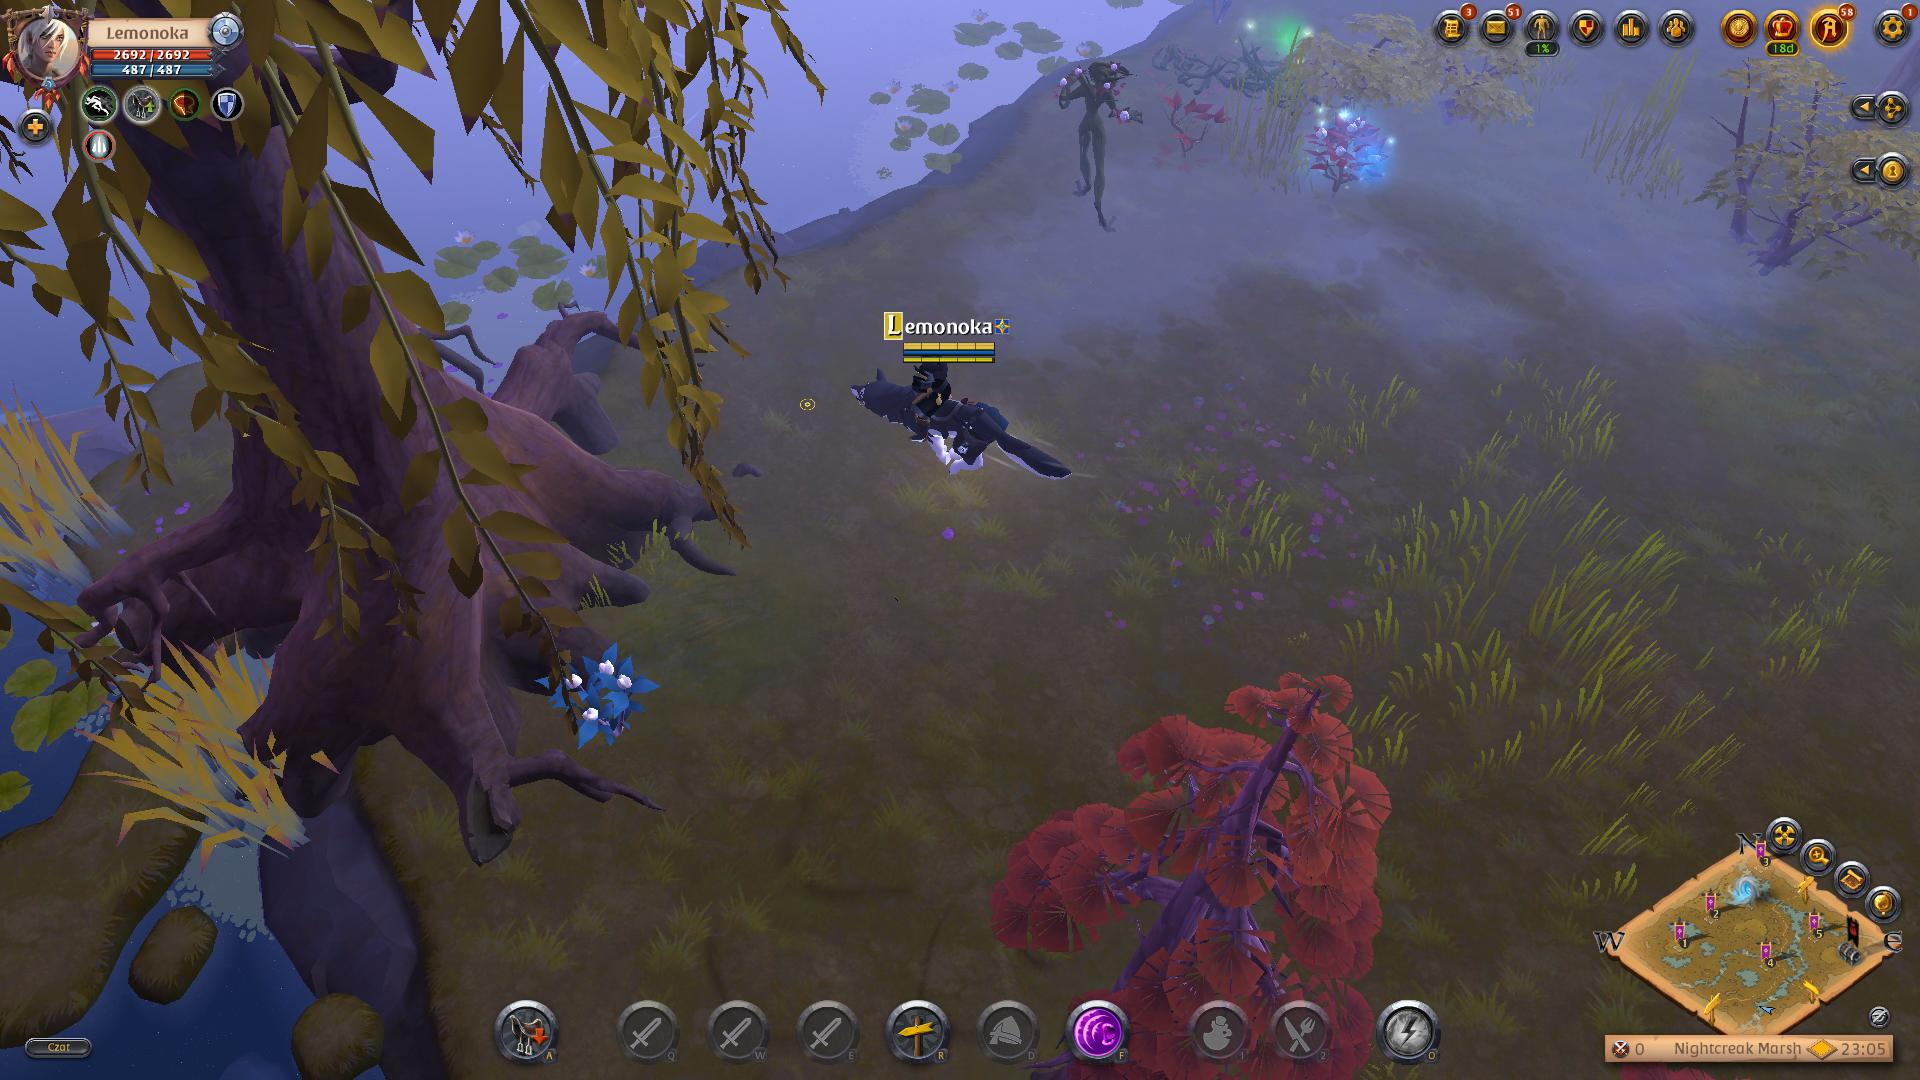fiber tier 4: (537, 640, 658, 752)
fiber tier 5: (1308, 113, 1391, 194)
